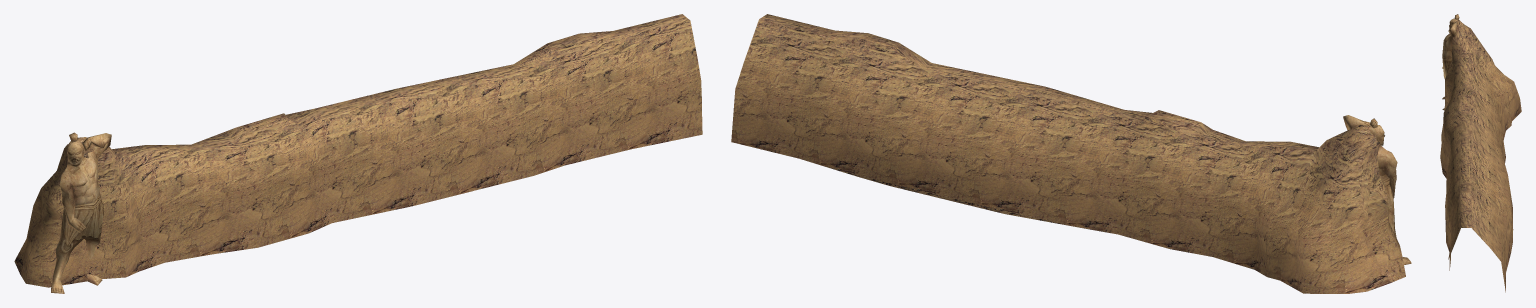
File: w_cd_statue_r.glb
The picture shows the model from 3 angles, left to right: view 1: azimuth 30°, elevation 25°; view 2: azimuth 150°, elevation 25°; view 3: azimuth 270°, elevation 25°; orthographic projection. The views are drawn at different scales.
Parts seen in each view (by area): view 1: w_cd_statue_walR, w_cd_statue_R; view 2: w_cd_statue_walR, w_cd_statue_R; view 3: w_cd_statue_walR, w_cd_statue_R.
Part boxes in pixels (<box>): w_cd_statue_walR: <box>14,14,702,287</box>; w_cd_statue_R: <box>51,132,111,293</box>; w_cd_statue_walR: <box>731,14,1405,293</box>; w_cd_statue_R: <box>1343,115,1411,264</box>; w_cd_statue_walR: <box>1440,20,1521,292</box>; w_cd_statue_R: <box>1442,14,1459,109</box>.
Bounding box in the file's own units: 56.75 × 12.1 × 9.73.
2 materials, 2 textured.
